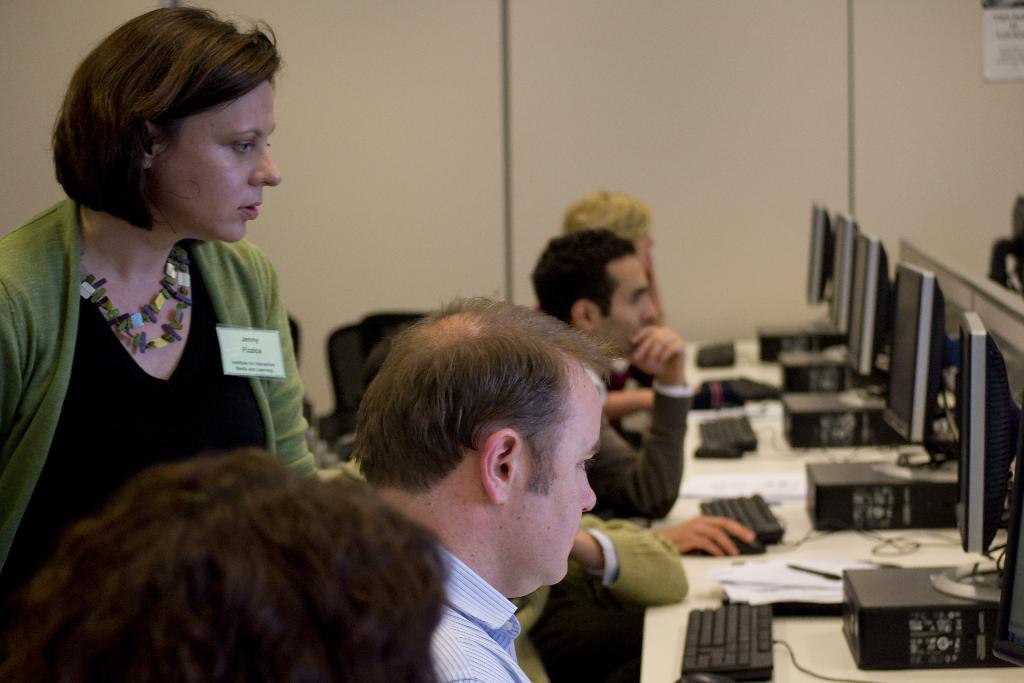Computer-keyboard: (680, 607, 775, 677), (696, 493, 785, 542), (696, 415, 760, 446), (695, 341, 736, 367)
